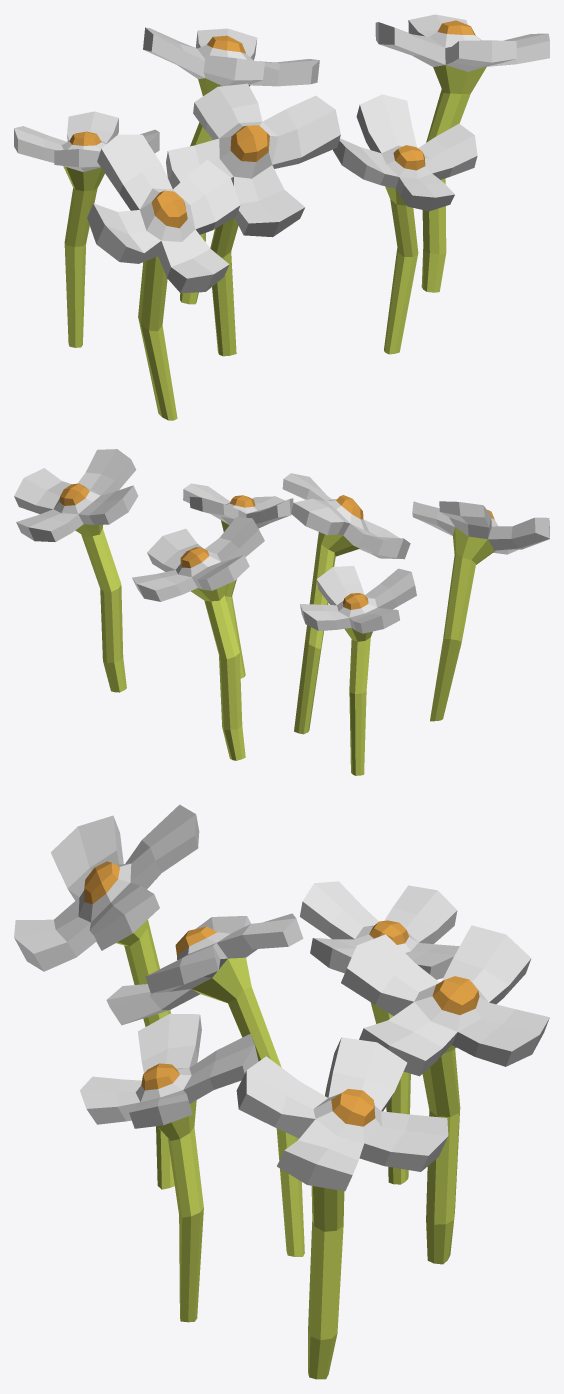
The model's file is flowers-white.fbx.
3 renders of one model, top to bottom at view 1: azimuth 30°, elevation 25°; view 2: azimuth 150°, elevation 25°; view 3: azimuth 270°, elevation 25°, orthographic. The views are drawn at different scales.
Parts seen in each view (by area): view 1: flowers-white_LOD0; view 2: flowers-white_LOD0; view 3: flowers-white_LOD0.
Part boxes in pixels (x1,y1,x2,y2): flowers-white_LOD0: (14,14,549,420); flowers-white_LOD0: (14,449,549,775); flowers-white_LOD0: (14,804,549,1379).
Size of what is drawn, in the model's own units: 2.65 by 1.32 by 1.84.
